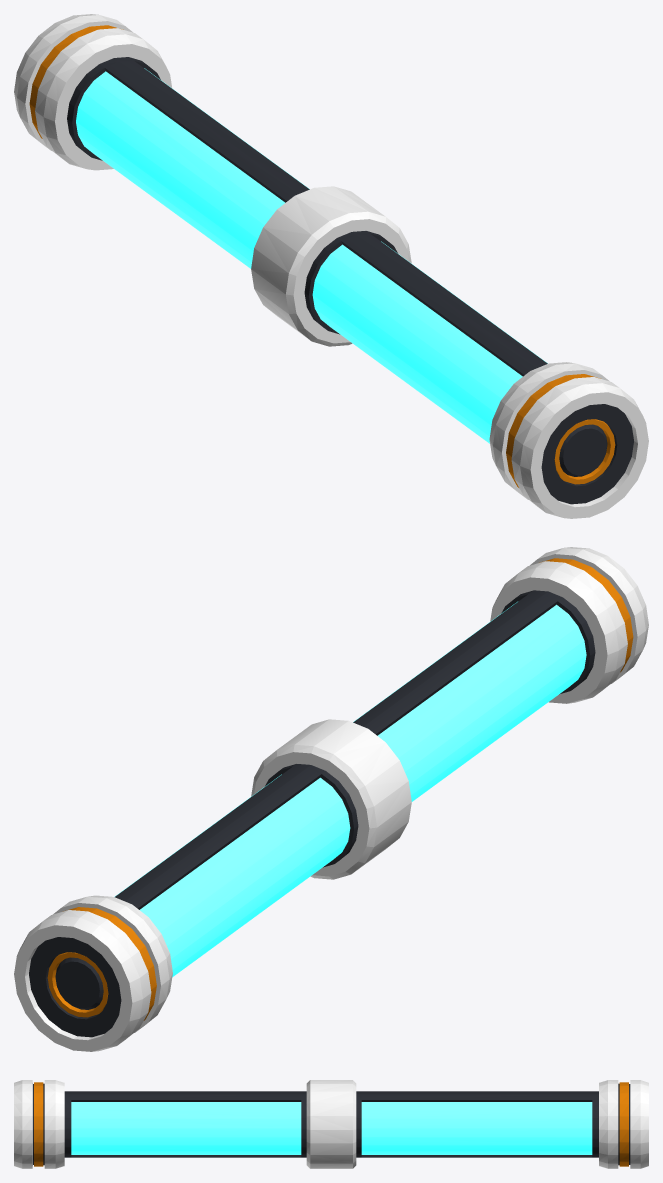
The model's file is SM_Cable_Small_Straight.fbx.
3 views of the same model, one above another, from view 1: azimuth 30°, elevation 25°; view 2: azimuth 150°, elevation 25°; view 3: azimuth 270°, elevation 25° (orthographic). The views are drawn at different scales.
Parts seen in each view (by area): view 1: SM_Cable_Small_Straight; view 2: SM_Cable_Small_Straight; view 3: SM_Cable_Small_Straight.
Part boxes in pixels (<box>): SM_Cable_Small_Straight: <box>14,14,648,518</box>; SM_Cable_Small_Straight: <box>14,547,648,1051</box>; SM_Cable_Small_Straight: <box>14,1080,648,1168</box>.
Size of the model in its own units: 14.09 by 14.09 by 99.96.
